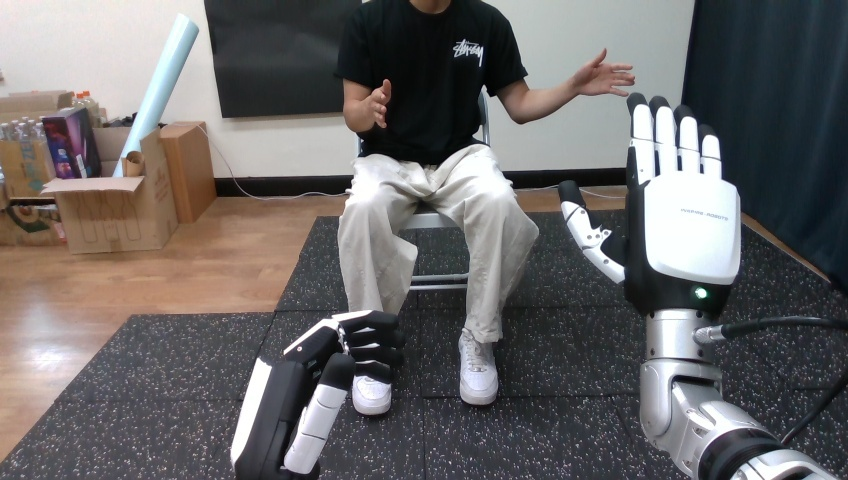left robot hand: (559, 93, 847, 479), (231, 310, 404, 479), (570, 48, 634, 96)
